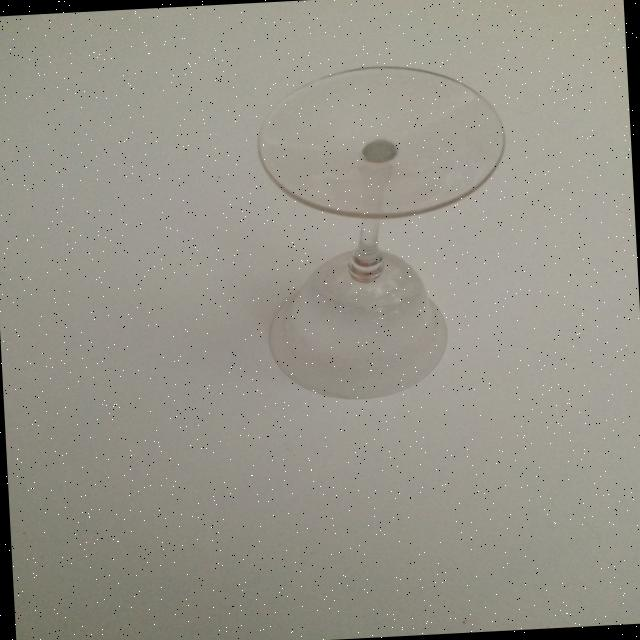glass: (251, 58, 519, 404)
